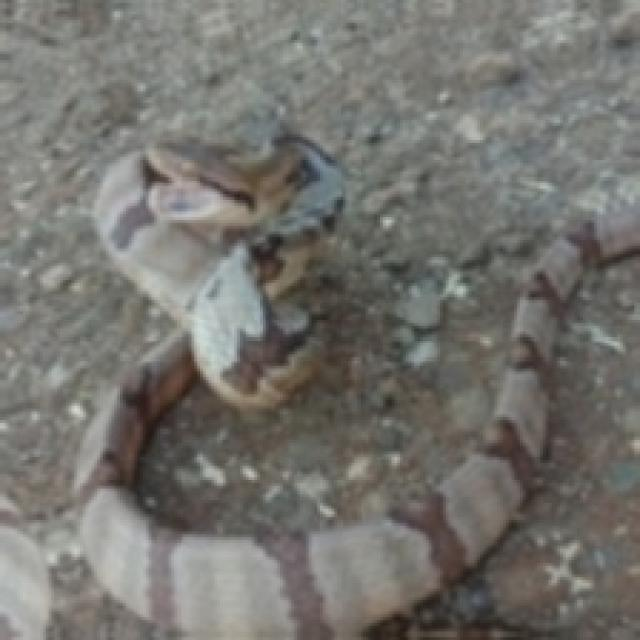dog-toothed cat snake: (74, 137, 637, 637), (94, 134, 340, 406)
